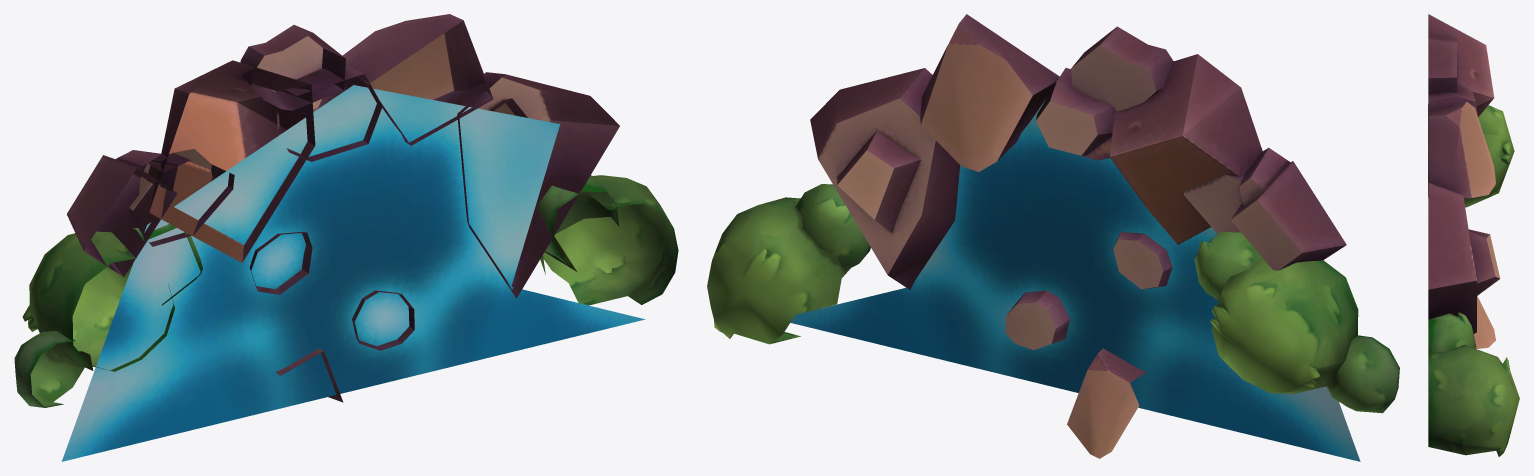
The model's file is WaterFallBottom.fbx.
3 renders of one model, left to right at view 1: azimuth 30°, elevation 25°; view 2: azimuth 150°, elevation 25°; view 3: azimuth 270°, elevation 25°, orthographic. The views are drawn at different scales.
Visible parts, largest first — view 1: WaterFallBottom; view 2: WaterFallBottom; view 3: WaterFallBottom.
Part boxes in pixels (box(x1,y1,x2,y2)): WaterFallBottom: box(14, 14, 678, 461); WaterFallBottom: box(707, 14, 1399, 461); WaterFallBottom: box(1428, 14, 1519, 456).
Bounding box in the file's own units: 459 × 262 × 69.7.
